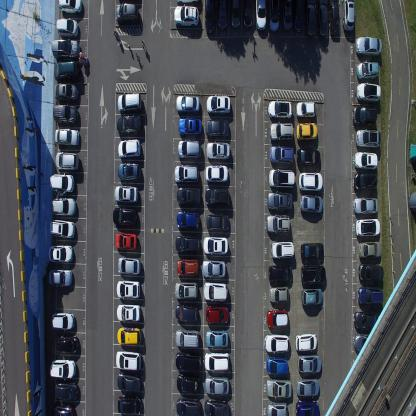car: (174, 350, 202, 372), (354, 36, 382, 58), (115, 348, 141, 371), (49, 218, 76, 240), (51, 38, 80, 58), (116, 371, 141, 394), (117, 114, 142, 137), (117, 92, 142, 115), (204, 186, 230, 208), (176, 185, 202, 207), (269, 165, 295, 187), (173, 5, 199, 27), (53, 60, 80, 81), (356, 127, 380, 150), (356, 81, 380, 104), (177, 138, 202, 160), (117, 394, 142, 416), (54, 104, 79, 126), (55, 152, 80, 174), (298, 170, 323, 192), (54, 82, 79, 104), (176, 373, 202, 394), (51, 197, 77, 218), (355, 216, 381, 237), (49, 358, 76, 378), (118, 138, 142, 160), (206, 93, 230, 115), (353, 104, 377, 126), (301, 264, 326, 285), (114, 183, 139, 204), (55, 127, 80, 148), (175, 93, 200, 114), (354, 309, 379, 330), (353, 150, 378, 171), (264, 333, 290, 353), (204, 351, 230, 371), (112, 206, 138, 226), (267, 190, 293, 210), (267, 99, 293, 119), (358, 284, 384, 304), (354, 332, 381, 351), (297, 376, 320, 398), (356, 59, 378, 82), (298, 353, 322, 374), (174, 163, 198, 184), (114, 230, 138, 251), (118, 161, 142, 182), (205, 117, 229, 138), (204, 235, 228, 256), (115, 2, 139, 23), (265, 213, 290, 233), (116, 302, 141, 322), (115, 278, 140, 298), (48, 268, 73, 288), (269, 144, 294, 164), (203, 282, 228, 302), (266, 379, 292, 398), (204, 376, 230, 395), (48, 244, 74, 263), (266, 308, 289, 329), (176, 209, 199, 230), (56, 16, 79, 37), (295, 332, 319, 352), (205, 164, 229, 184), (206, 140, 230, 160), (268, 264, 292, 284), (117, 255, 141, 275), (296, 146, 320, 166), (269, 120, 293, 140), (354, 171, 378, 191), (206, 212, 230, 232), (174, 303, 198, 323), (50, 174, 75, 193), (353, 195, 378, 214), (175, 397, 201, 415), (358, 262, 384, 280), (296, 120, 318, 141), (300, 192, 323, 212), (358, 238, 381, 258), (202, 258, 225, 278), (176, 257, 199, 277), (175, 328, 199, 347), (300, 242, 324, 261), (54, 382, 78, 401), (178, 117, 202, 136), (174, 281, 198, 300), (116, 326, 141, 344), (50, 312, 75, 330), (301, 287, 323, 307), (206, 304, 228, 324), (205, 330, 229, 348), (176, 235, 200, 253), (266, 356, 288, 375), (57, 334, 79, 353), (317, 0, 328, 38), (271, 240, 294, 258), (304, 0, 315, 37), (329, 0, 340, 37), (294, 99, 315, 118), (204, 400, 230, 415), (57, 0, 83, 15), (296, 400, 320, 416), (204, 0, 215, 34), (268, 0, 279, 33), (268, 285, 288, 303), (342, 0, 354, 30), (242, 0, 253, 29), (218, 0, 228, 30), (256, 0, 266, 30), (282, 0, 292, 30), (294, 0, 303, 32), (47, 405, 74, 415), (231, 0, 240, 29), (268, 402, 288, 415), (176, 0, 198, 5)
